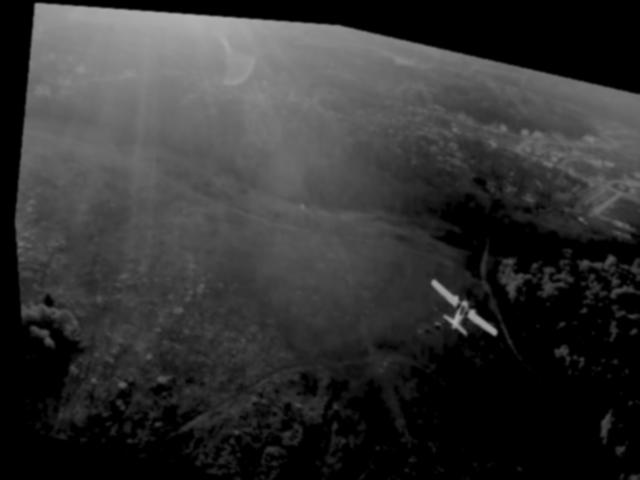hedef: (413, 262, 506, 355)
